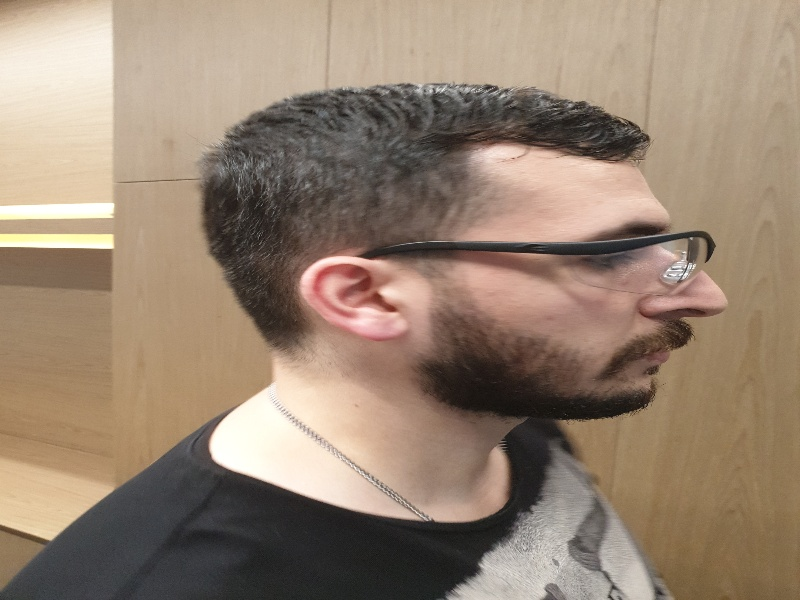Gozluk: (358, 229, 719, 294)
